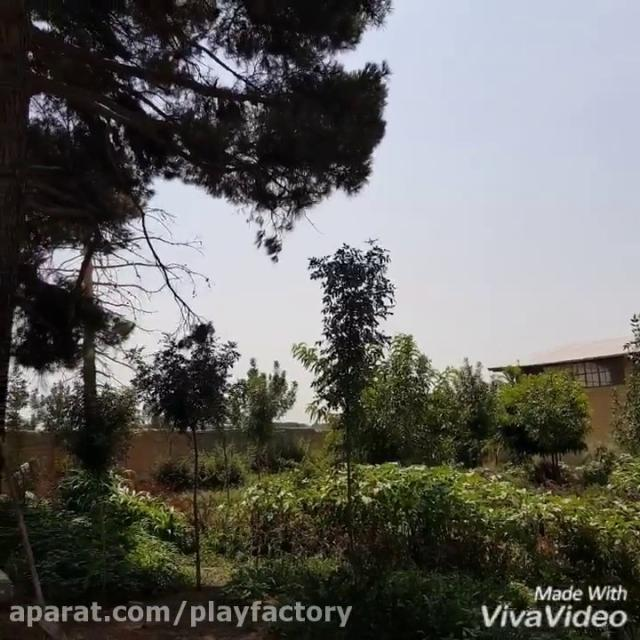drone: (361, 231, 381, 248)
